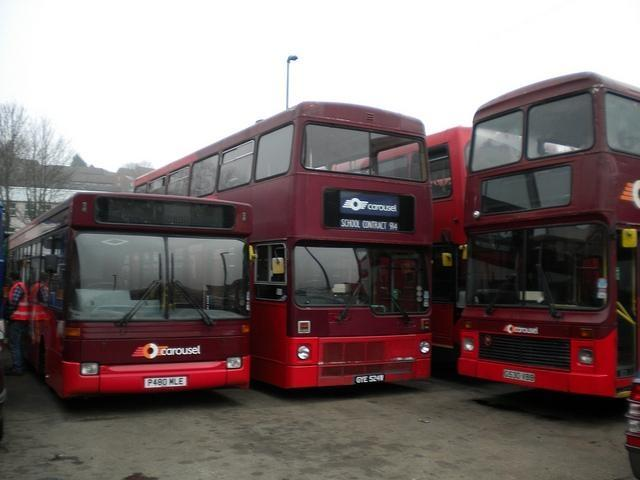bus: (134, 103, 432, 390), (460, 73, 640, 398), (1, 190, 252, 410), (422, 128, 475, 378), (628, 382, 640, 474)
